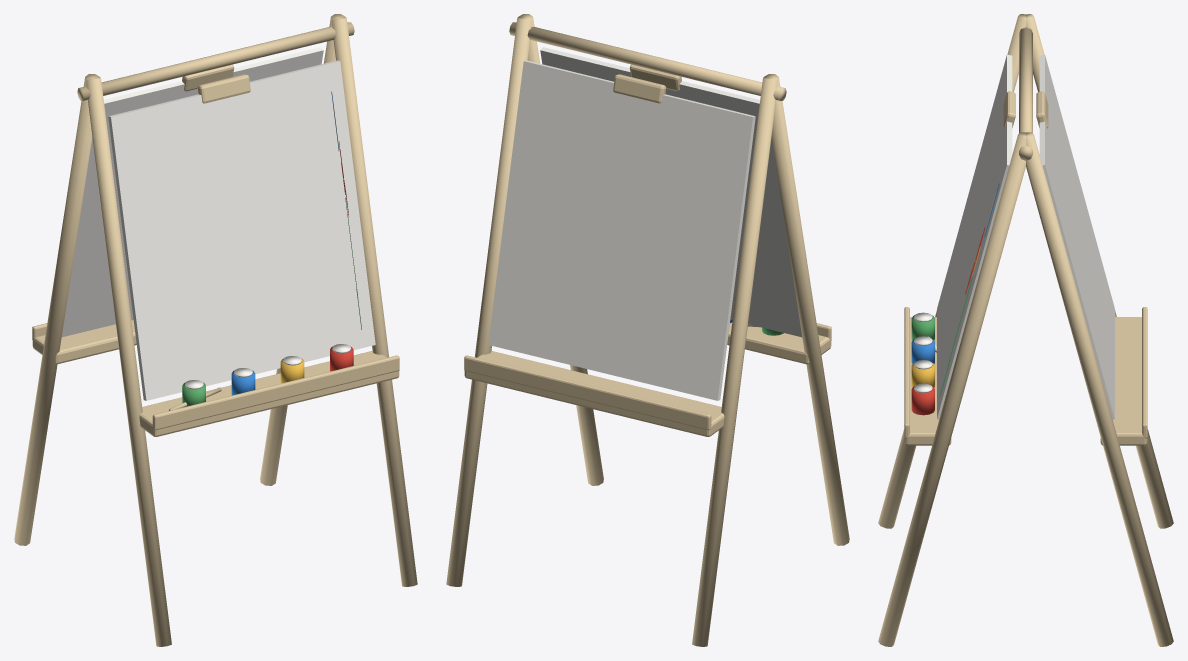
Rendered from kidsEasel.glb.
3 renders of one model, left to right at view 1: azimuth 30°, elevation 25°; view 2: azimuth 150°, elevation 25°; view 3: azimuth 270°, elevation 25°, orthographic.
Visible parts, largest first — view 1: body; view 2: body; view 3: body, painting.
Part boxes in pixels (x1,y1,x2,y2): body: [14, 14, 417, 646]; body: [446, 14, 849, 646]; body: [878, 14, 1173, 646]; painting: [939, 183, 999, 396].
Size of the model in its own units: 0.66 by 1.21 by 0.634.
